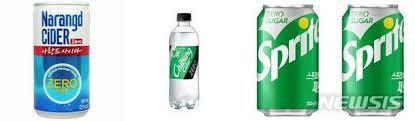narangdcider: (31, 2, 93, 118)
sprite: (250, 2, 322, 118), (338, 2, 410, 117)
